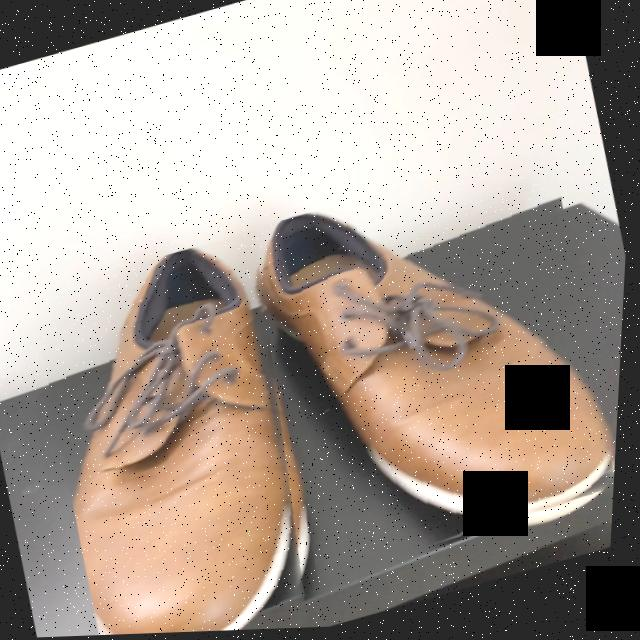shoe: (263, 217, 617, 525), (78, 250, 303, 636)
